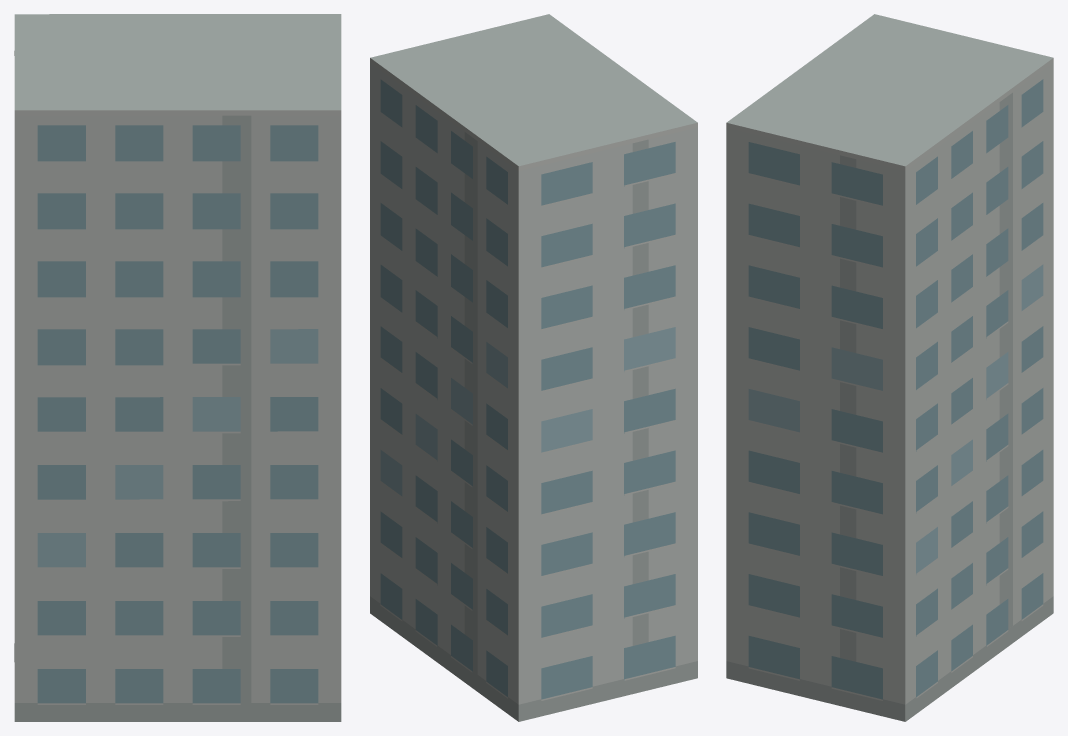
File: residential-d018aba3-1f40-48a9-ae81-650230f143ec.glb
The picture shows the model from 3 angles, left to right: view 1: azimuth 30°, elevation 25°; view 2: azimuth 150°, elevation 25°; view 3: azimuth 270°, elevation 25°; orthographic projection. The views are drawn at different scales.
Visible parts, largest first — view 1: residential-d018aba3-1f40-48a9-ae81-650230f143ec.tmp; view 2: residential-d018aba3-1f40-48a9-ae81-650230f143ec.tmp; view 3: residential-d018aba3-1f40-48a9-ae81-650230f143ec.tmp.
Part boxes in pixels (x1,y1,x2,y2): residential-d018aba3-1f40-48a9-ae81-650230f143ec.tmp: (14,14,341,721); residential-d018aba3-1f40-48a9-ae81-650230f143ec.tmp: (370,14,697,721); residential-d018aba3-1f40-48a9-ae81-650230f143ec.tmp: (726,14,1053,721).
Size of the model in its own units: 16.48 by 28 by 14.96.
